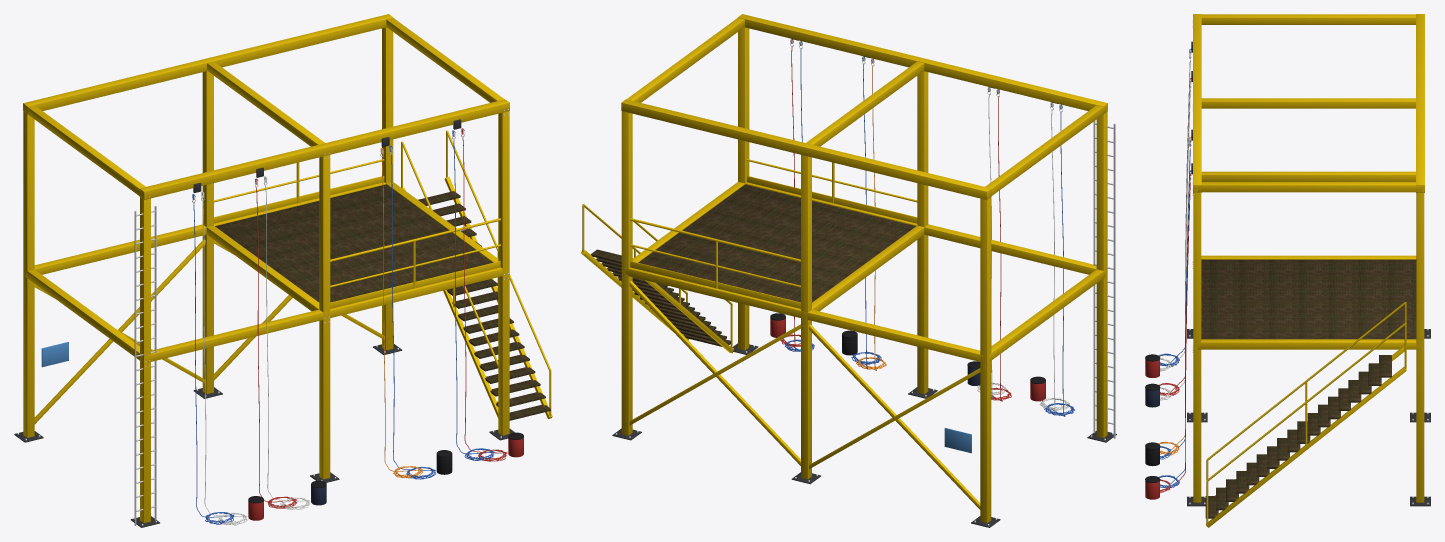
Rendered from struttura.glb.
3 renders of one model, left to right at view 1: azimuth 30°, elevation 25°; view 2: azimuth 150°, elevation 25°; view 3: azimuth 270°, elevation 25°, orthographic. The views are drawn at different scales.
Parts seen in each view (by area): view 1: struttura_telaio, struttura_pianale, struttura_scala, struttura_dettagli, struttura_parapetto, struttura_marinara, struttura_corda_blu, struttura_corda_rossa, struttura_corda_bianca, struttura_corda_arancio; view 2: struttura_telaio, struttura_pianale, struttura_dettagli, struttura_scala, struttura_parapetto, struttura_marinara, struttura_corda_blu, struttura_corda_bianca, struttura_corda_rossa; view 3: struttura_telaio, struttura_pianale, struttura_scala, struttura_dettagli, struttura_parapetto, struttura_corda_blu, struttura_corda_bianca, struttura_corda_rossa.
Boxes of the visible parts, left/top/right/bottom form: struttura_telaio: left=23, top=14, right=509, bottom=522; struttura_pianale: left=215, top=184, right=492, bottom=302; struttura_scala: left=402, top=177, right=552, bottom=420; struttura_dettagli: left=14, top=109, right=523, bottom=527; struttura_parapetto: left=214, top=130, right=551, bottom=418; struttura_marinara: left=134, top=206, right=156, bottom=525; struttura_corda_blu: left=192, top=130, right=494, bottom=524; struttura_corda_rossa: left=255, top=128, right=507, bottom=508; struttura_corda_bianca: left=201, top=176, right=310, bottom=525; struttura_corda_arancio: left=380, top=148, right=422, bottom=478; struttura_telaio: left=621, top=14, right=1107, bottom=522; struttura_pianale: left=638, top=184, right=915, bottom=302; struttura_dettagli: left=612, top=43, right=1116, bottom=527; struttura_scala: left=581, top=249, right=733, bottom=353; struttura_parapetto: left=582, top=159, right=917, bottom=347; struttura_marinara: left=1093, top=121, right=1115, bottom=438; struttura_corda_blu: left=784, top=41, right=1074, bottom=416; struttura_corda_bianca: left=977, top=87, right=1069, bottom=414; struttura_corda_rossa: left=780, top=39, right=1011, bottom=401; struttura_telaio: left=1193, top=14, right=1424, bottom=502; struttura_pianale: left=1201, top=259, right=1416, bottom=339; struttura_scala: left=1205, top=346, right=1406, bottom=527; struttura_dettagli: left=1145, top=20, right=1430, bottom=506; struttura_parapetto: left=1206, top=302, right=1406, bottom=524; struttura_corda_blu: left=1159, top=49, right=1191, bottom=489; struttura_corda_bianca: left=1160, top=53, right=1191, bottom=400; struttura_corda_rossa: left=1159, top=78, right=1191, bottom=493.
Bounding box in the file's own units: 9.46 × 7.12 × 5.76.
13 materials, 1 textured.
